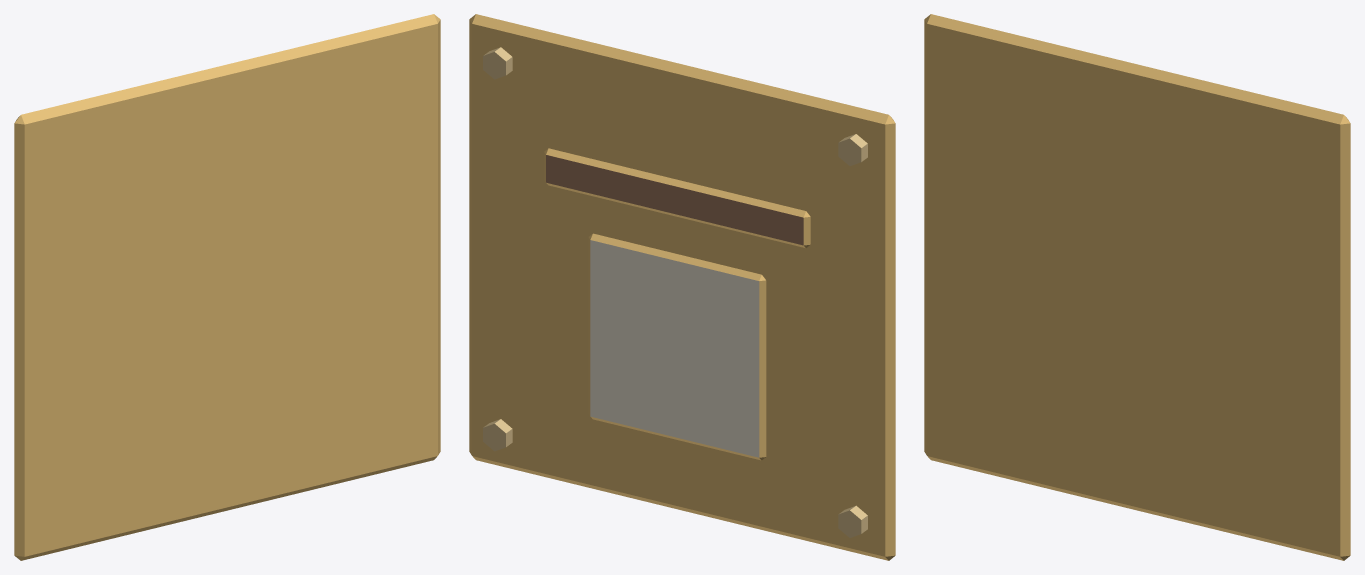
Rendered from Fill_Plate.fbx.
3 views of the same model, side by side, from view 1: azimuth 30°, elevation 25°; view 2: azimuth 150°, elevation 25°; view 3: azimuth 330°, elevation 25° (orthographic).
Parts seen in each view (by area): view 1: Fill_Plate; view 2: Fill_Plate; view 3: Fill_Plate.
Part boxes in pixels (x1=…): Fill_Plate: x1=14, y1=14, x2=440, y2=560; Fill_Plate: x1=469, y1=14, x2=895, y2=560; Fill_Plate: x1=924, y1=14, x2=1350, y2=560.
Bounding box in the file's own units: 0.96 × 0.96 × 0.055.
